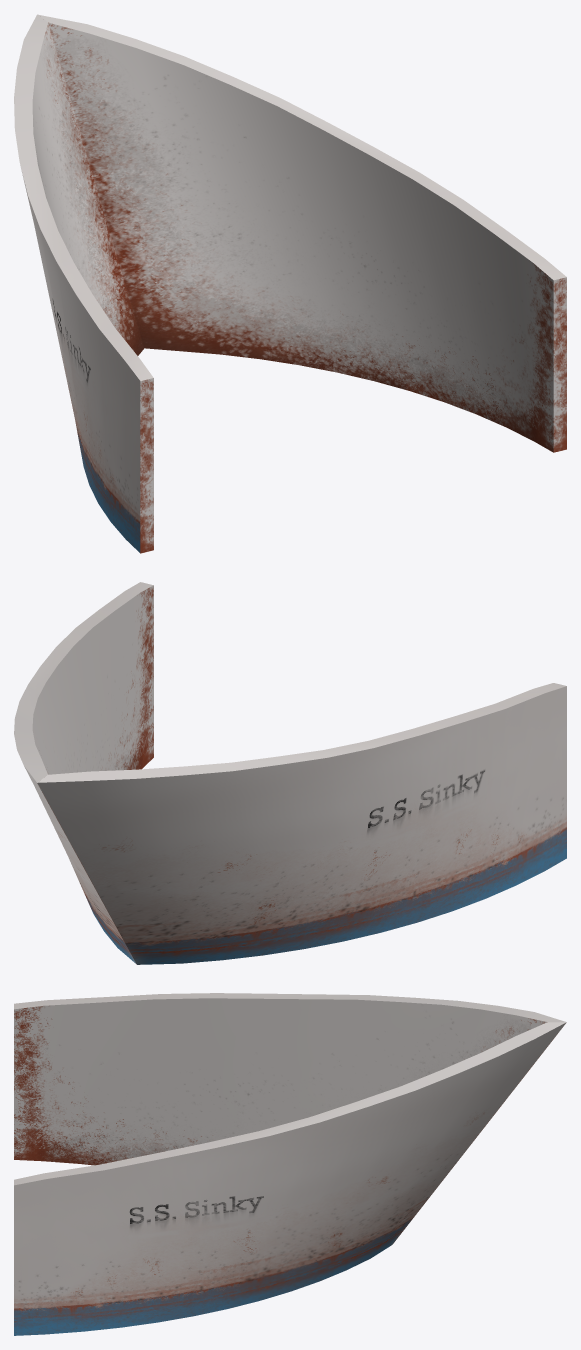
The model's file is Bow.FBX.
The picture shows the model from 3 angles, top to bottom: view 1: azimuth 30°, elevation 25°; view 2: azimuth 150°, elevation 25°; view 3: azimuth 270°, elevation 25°; orthographic projection. The views are drawn at different scales.
Visible parts, largest first — view 1: Object003, Object001; view 2: Object001, Object003; view 3: Object003, Object001.
Boxes of the visible parts, x1,y1,x2,y2 form: Object003: (37, 14, 566, 452); Object001: (14, 14, 153, 553); Object001: (37, 683, 566, 964); Object003: (14, 582, 153, 964); Object003: (14, 1022, 566, 1335); Object001: (14, 993, 566, 1243).
Size of the model in its own units: 806 by 461 by 1036.
Materials: 2 (2 with a texture image).
